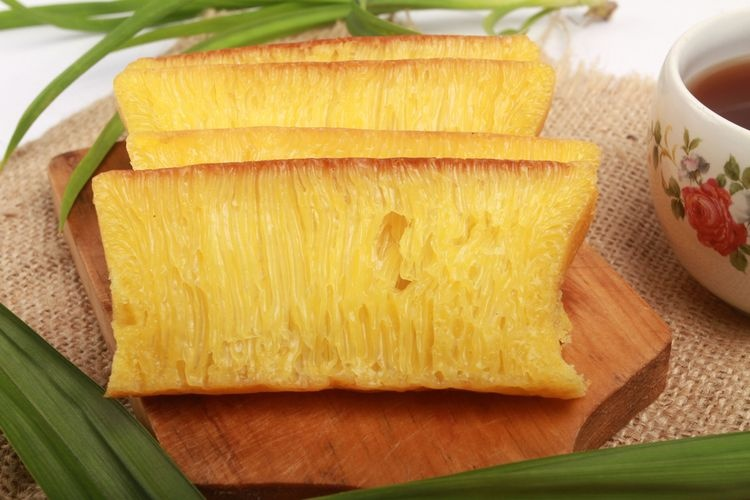bika_ambon: (103, 41, 583, 403), (92, 161, 601, 398)
